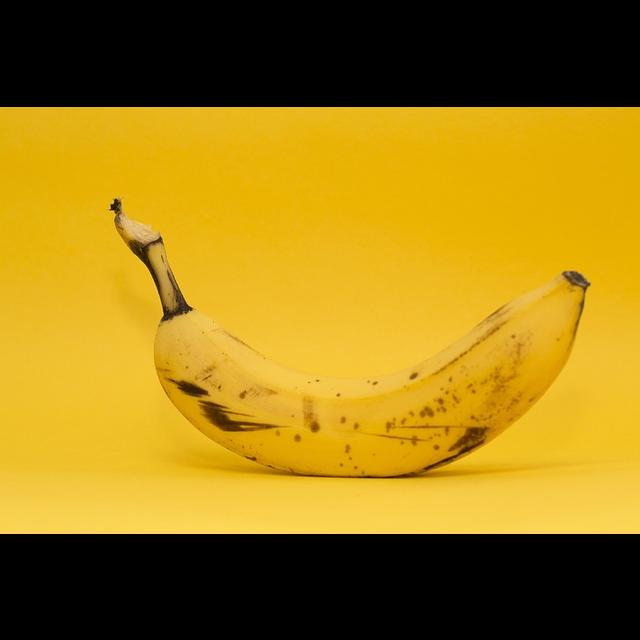banana: (119, 271, 623, 495)
